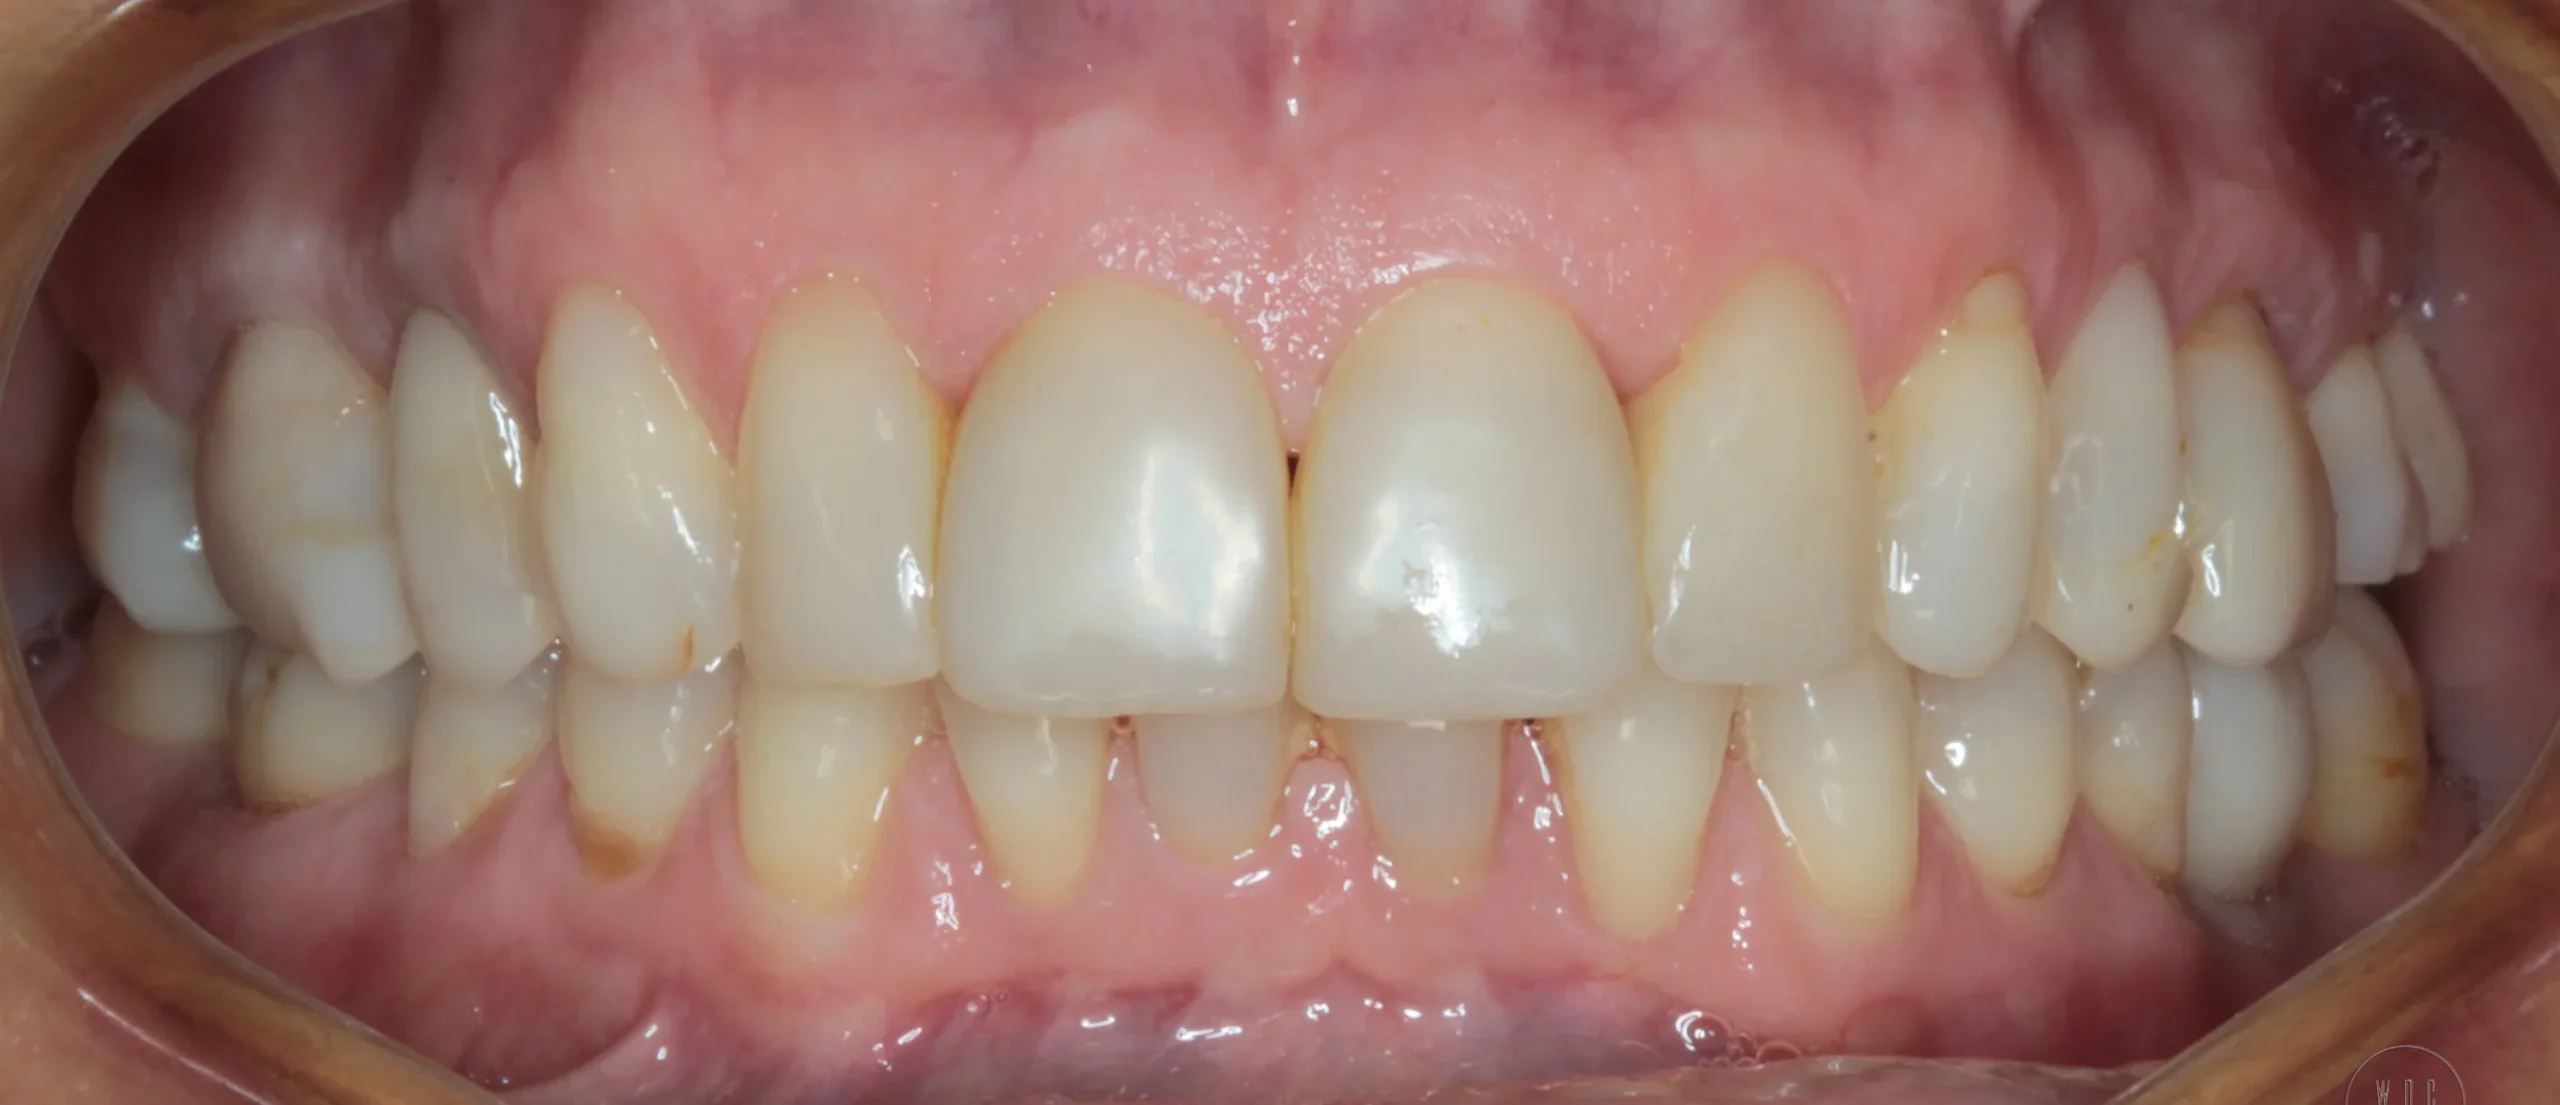UL1BC_healthy: (2051, 264, 2188, 668)
UL1M_healthy: (2327, 343, 2428, 586)
UL2BC_healthy: (2184, 295, 2333, 659)
UL2M_healthy: (2392, 325, 2472, 560)
ULCI_healthy: (1295, 279, 1652, 721)
ULC_healthy: (1881, 274, 2046, 677)
ULLI_healthy: (1656, 274, 1881, 682)
UR1BC_healthy: (384, 323, 536, 674)
UR1M_healthy: (77, 374, 202, 635)
UR2BC_healthy: (202, 317, 397, 679)
URCI_healthy: (939, 282, 1295, 717)
URC_healthy: (532, 294, 736, 672)
URLI_healthy: (736, 295, 944, 684)
